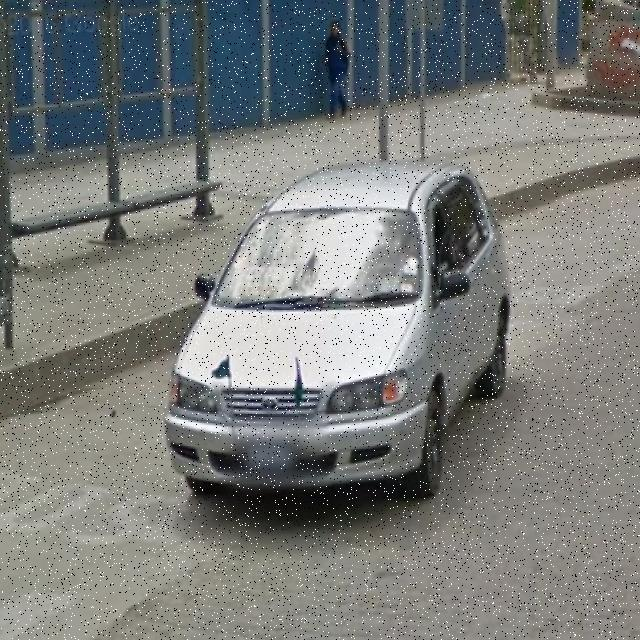cars: (174, 170, 510, 507)
